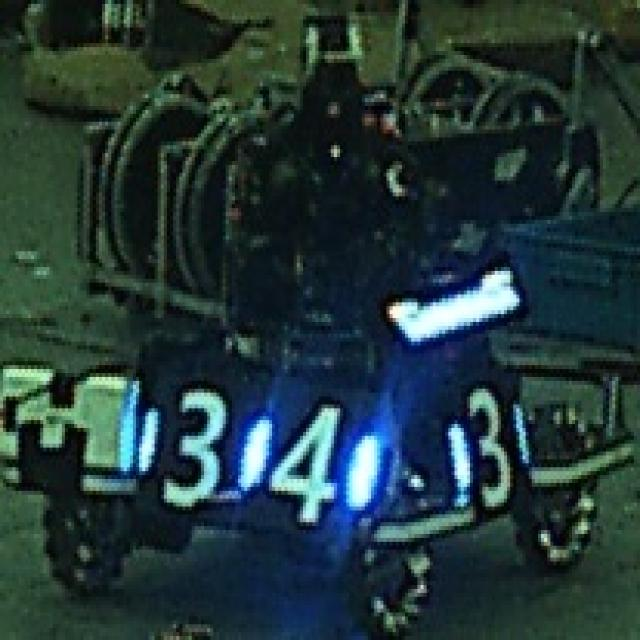B3: (133, 381, 269, 506), (451, 373, 532, 518)
B4: (235, 397, 374, 518)
